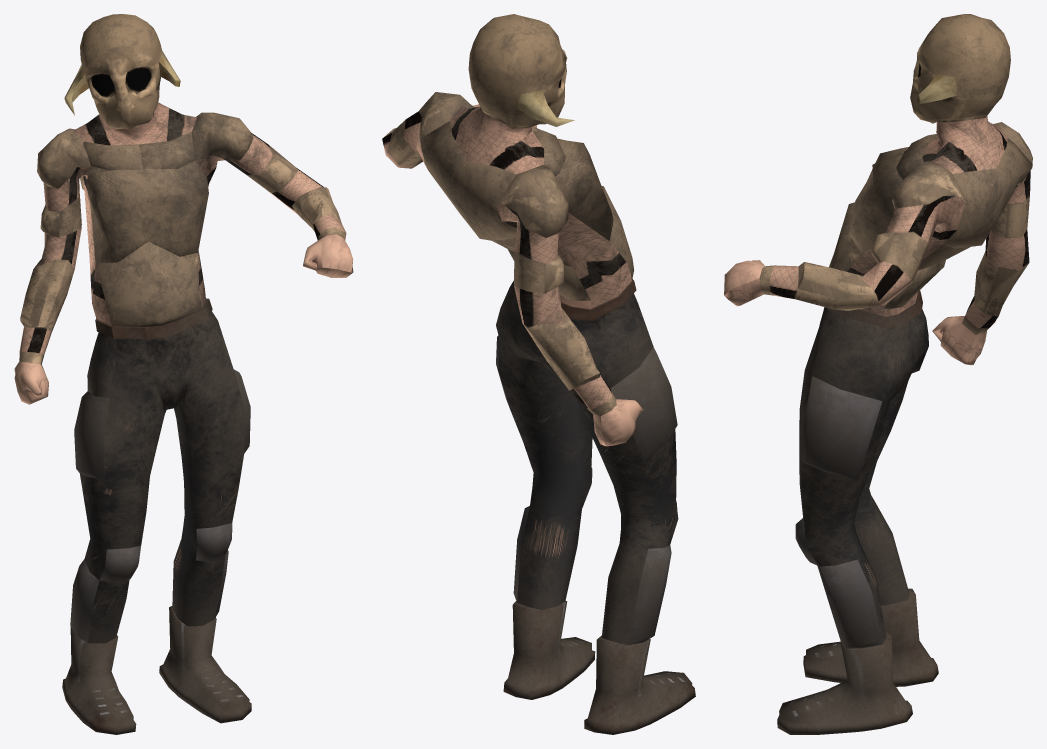
File: Anim_recibirdanyo_npc1.0023.obj
3 views of the same model, side by side, from view 1: azimuth 30°, elevation 25°; view 2: azimuth 150°, elevation 25°; view 3: azimuth 270°, elevation 25° (orthographic). The views are drawn at different scales.
Visible parts, largest first — view 1: NPC2; view 2: NPC2; view 3: NPC2.
Part boxes in pixels (x1=…): NPC2: x1=14, y1=14, x2=353, y2=734; NPC2: x1=382, y1=14, x2=695, y2=734; NPC2: x1=724, y1=14, x2=1032, y2=734.
Bounding box in the file's own units: 3.97 × 9.18 × 3.71.
